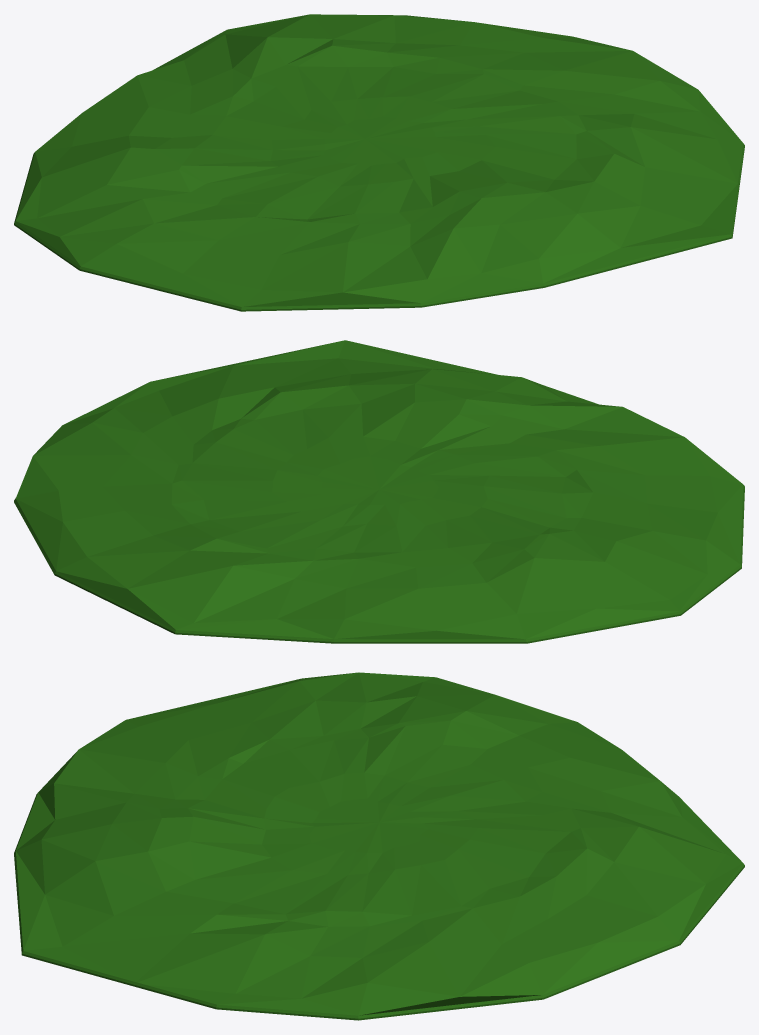
Rendered from grass-terrain-blob-c4f709.fbx.
3 renders of one model, top to bottom at view 1: azimuth 30°, elevation 25°; view 2: azimuth 150°, elevation 25°; view 3: azimuth 270°, elevation 25°, orthographic. The views are drawn at different scales.
Visible parts, largest first — view 1: grass-terrain-blob-mesh; view 2: grass-terrain-blob-mesh; view 3: grass-terrain-blob-mesh.
Boxes of the visible parts, <box> form: grass-terrain-blob-mesh: <box>14,14,744,311</box>; grass-terrain-blob-mesh: <box>14,340,744,643</box>; grass-terrain-blob-mesh: <box>14,672,744,1020</box>.
Size of the model in its own units: 9 by 0.4992 by 8.18.
